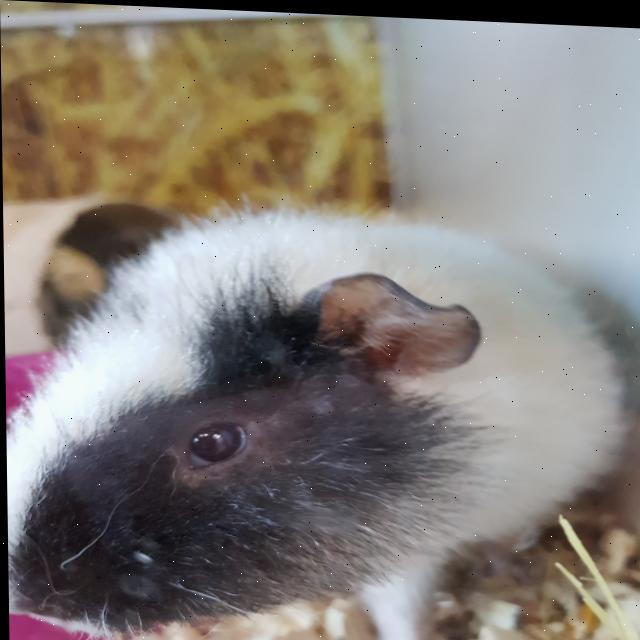guinea pig: (2, 181, 640, 640)
